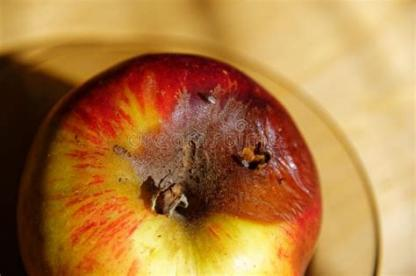defect: (111, 81, 323, 235)
